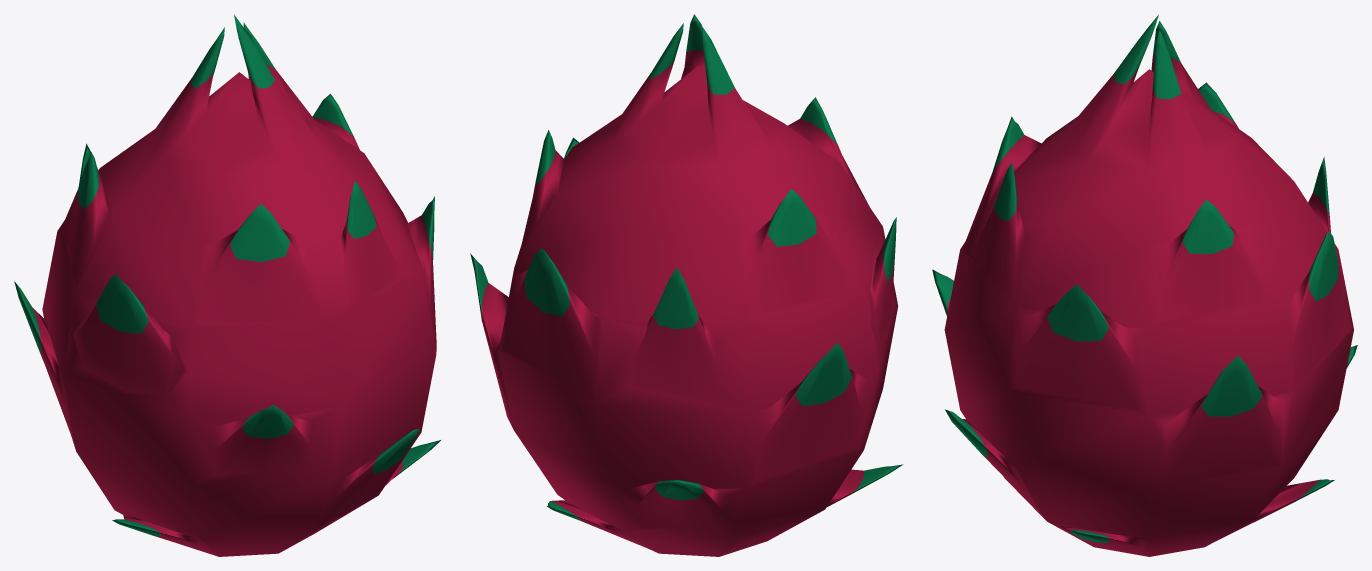
Rendered from dragonFruit-fxed.fbx.
3 renders of one model, left to right at view 1: azimuth 30°, elevation 25°; view 2: azimuth 150°, elevation 25°; view 3: azimuth 270°, elevation 25°, orthographic.
Visible parts, largest first — view 1: dragonfruit; view 2: dragonfruit; view 3: dragonfruit.
Boxes of the visible parts, x1,y1,x2,y2 form: dragonfruit: [14, 14, 440, 556]; dragonfruit: [470, 14, 903, 556]; dragonfruit: [932, 14, 1357, 556].
Bounding box in the file's own units: 27.9 × 38.54 × 28.3.
